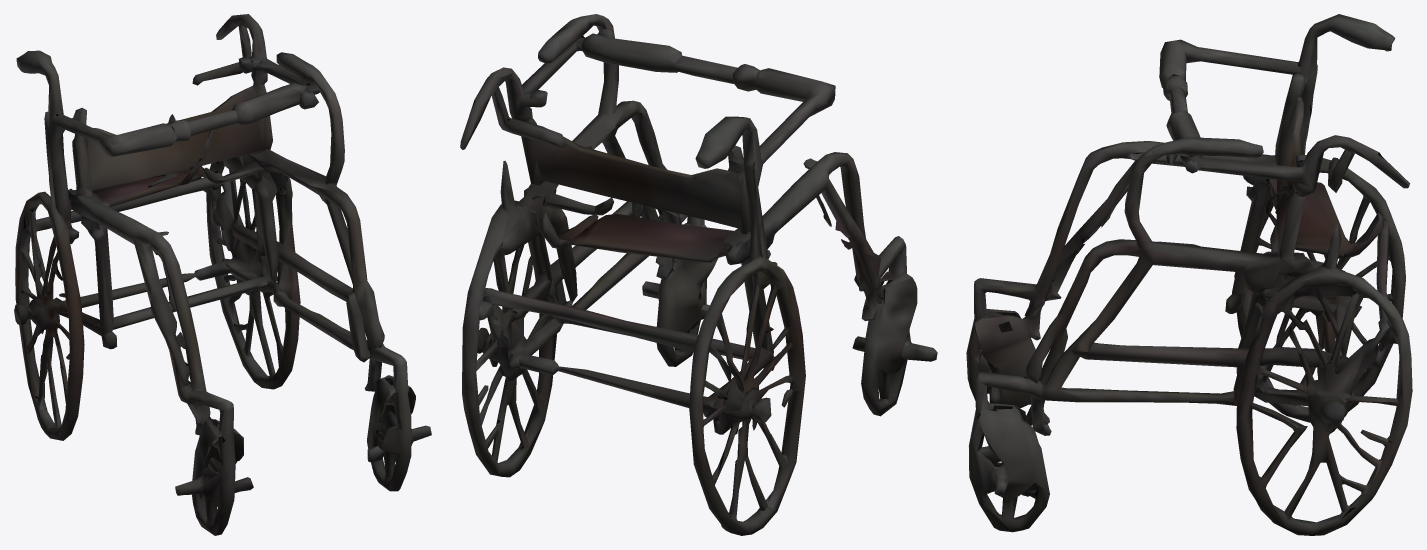
File: weathered-iron-wheelchair-v001.glb
3 renders of one model, left to right at view 1: azimuth 30°, elevation 25°; view 2: azimuth 150°, elevation 25°; view 3: azimuth 270°, elevation 25°, orthographic. The views are drawn at different scales.
Visible parts, largest first — view 1: weathered-iron-wheelchair; view 2: weathered-iron-wheelchair; view 3: weathered-iron-wheelchair.
Part boxes in pixels (<box>): weathered-iron-wheelchair: <box>14,14,431,535</box>; weathered-iron-wheelchair: <box>460,14,937,535</box>; weathered-iron-wheelchair: <box>966,14,1412,535</box>.
Size of the model in its own units: 0.7204 by 0.9831 by 0.9742.
1 material, 1 textured.
